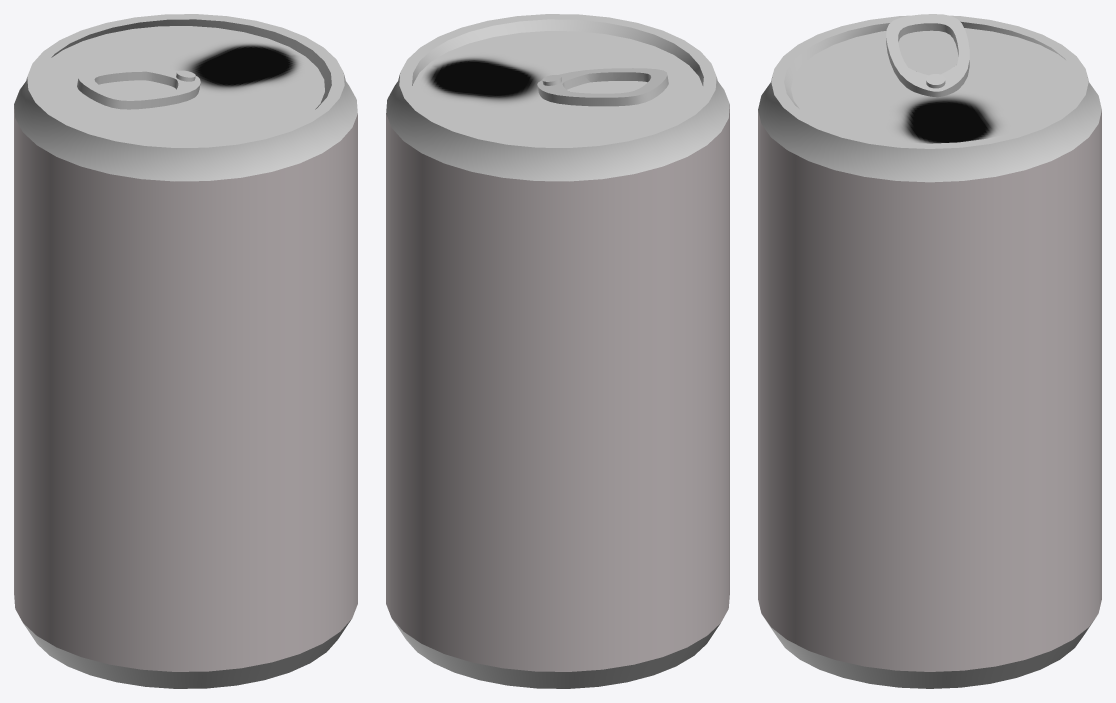
The model's file is beer can.fbx.
3 renders of one model, left to right at view 1: azimuth 30°, elevation 25°; view 2: azimuth 150°, elevation 25°; view 3: azimuth 270°, elevation 25°, orthographic.
Parts seen in each view (by area): view 1: Can; view 2: Can; view 3: Can.
Boxes of the visible parts, x1,y1,x2,y2 form: Can: (14,14,357,688); Can: (386,14,729,688); Can: (758,14,1101,688).
Size of the model in its own units: 66.35 by 119 by 66.35.
3 materials, 1 textured.
